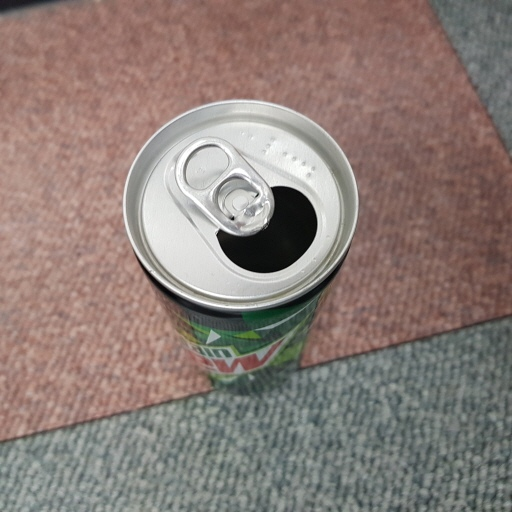Metal_0: (119, 98, 359, 392)
